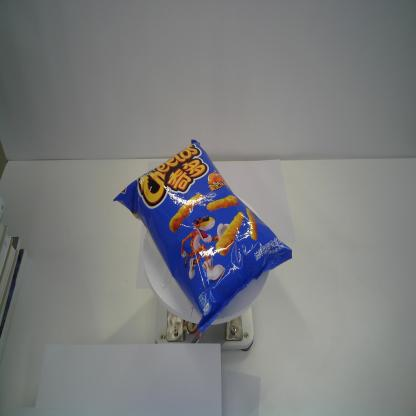Puffed Food: (113, 140, 294, 334)
